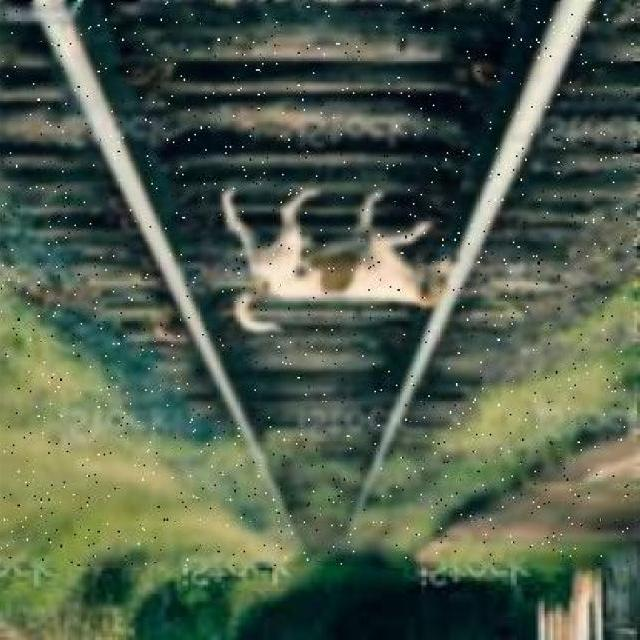rail: (2, 1, 634, 567)
